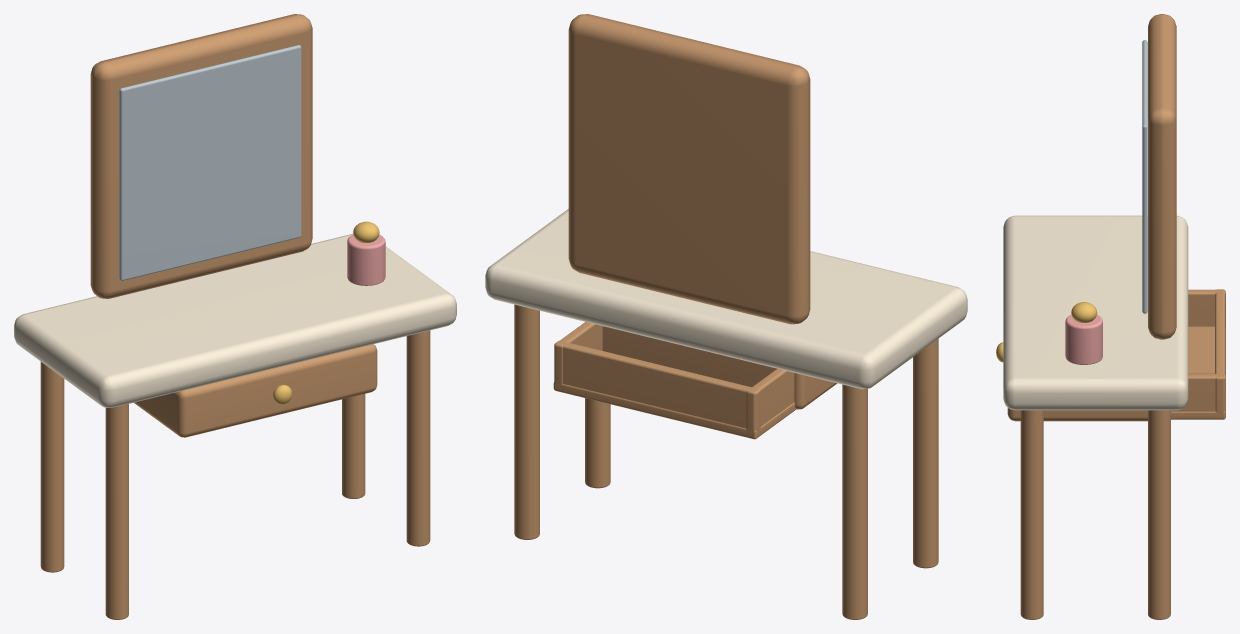
File: bedroomVanity.glb
3 views of the same model, side by side, from view 1: azimuth 30°, elevation 25°; view 2: azimuth 150°, elevation 25°; view 3: azimuth 270°, elevation 25° (orthographic). The views are drawn at different scales.
Parts seen in each view (by area): view 1: Vanity tabletop, Vanity mirror, Mirror frame, Vanity drawer, Vanity leg.002, Vanity leg, Vanity leg.001, Vanity leg.003, Perfume bottle; view 2: Mirror frame, Vanity tabletop, Drawer tray back, Vanity leg.001, Vanity leg.003, Vanity leg, Vanity drawer, Drawer tray floor, Vanity leg.002, Drawer tray side, Drawer tray side.001; view 3: Vanity tabletop, Mirror frame, Vanity leg.002, Vanity leg.003, Drawer tray floor, Perfume bottle, Vanity mirror, Vanity drawer, Drawer tray back, Drawer tray side.001, Drawer tray side, Perfume stopper.
Part boxes in pixels (box(x1,y1,x2,y2)): Vanity tabletop: box(14, 234, 456, 407); Vanity mirror: box(119, 45, 301, 280); Mirror frame: box(90, 14, 312, 298); Vanity drawer: box(134, 344, 377, 437); Vanity leg.002: box(406, 330, 430, 546); Vanity leg: box(105, 404, 128, 619); Vanity leg.001: box(40, 362, 64, 572); Vanity leg.003: box(342, 394, 365, 498); Perfume bottle: box(347, 234, 385, 285); Mirror frame: box(568, 14, 810, 324); Vanity tabletop: box(485, 209, 967, 389); Drawer tray back: box(554, 340, 760, 431); Vanity leg.001: box(842, 384, 867, 619); Vanity leg.003: box(514, 304, 539, 539); Vanity leg: box(913, 338, 938, 568); Vanity drawer: box(602, 326, 836, 409); Drawer tray floor: box(553, 381, 796, 439); Vanity leg.002: box(585, 398, 610, 488); Drawer tray side: box(746, 368, 794, 431); Drawer tray side.001: box(554, 322, 602, 385); Vanity tabletop: box(1003, 215, 1188, 410); Mirror frame: box(1148, 14, 1176, 339); Vanity leg.002: box(1020, 410, 1043, 619); Vanity leg.003: box(1148, 410, 1170, 619); Drawer tray floor: box(1171, 326, 1225, 419); Perfume bottle: box(1065, 314, 1102, 364); Vanity mirror: box(1142, 40, 1147, 313); Vanity drawer: box(1007, 408, 1147, 421); Drawer tray back: box(1215, 289, 1225, 414); Drawer tray side.001: box(1171, 373, 1225, 411); Drawer tray side: box(1188, 289, 1225, 327); Perfume stopper: box(1071, 302, 1097, 322).
Size of the model in its own units: 1.4 by 1.84 by 0.795.
